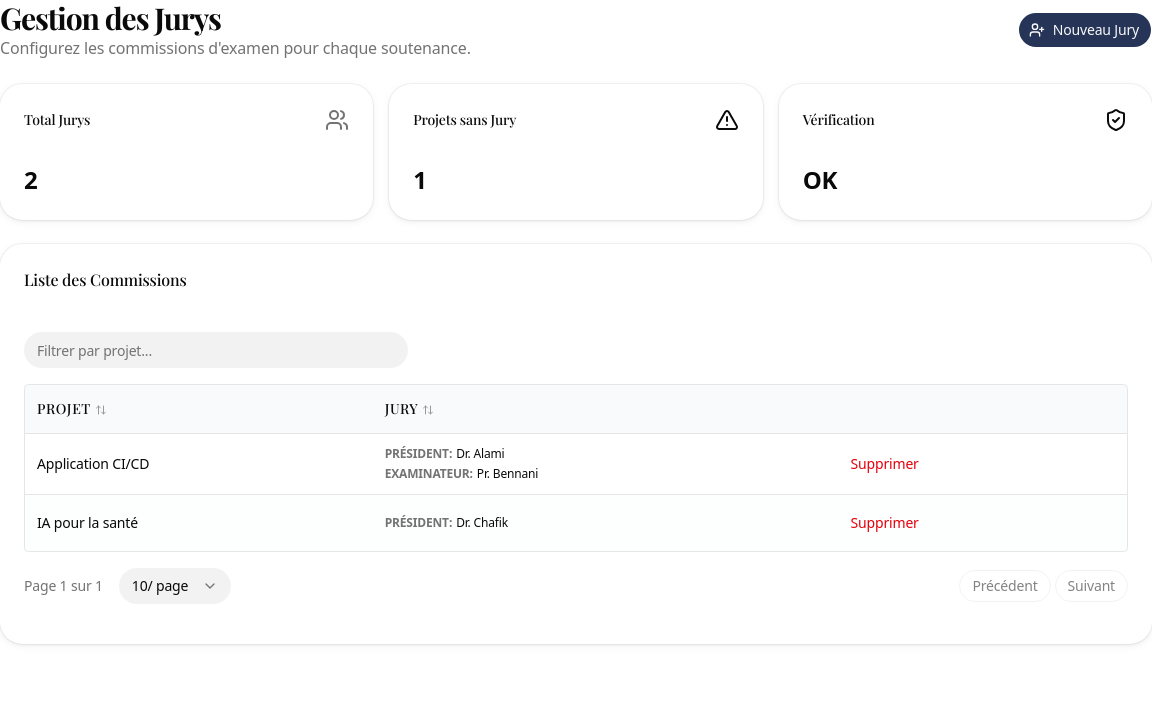
Test: Jurys (Coordinator) › shows delete confirmation when delete is clicked
Click the button "Supprimer" in the row of "Application CI/CD": (885,464) top-left (838, 448), bottom-right (932, 480)
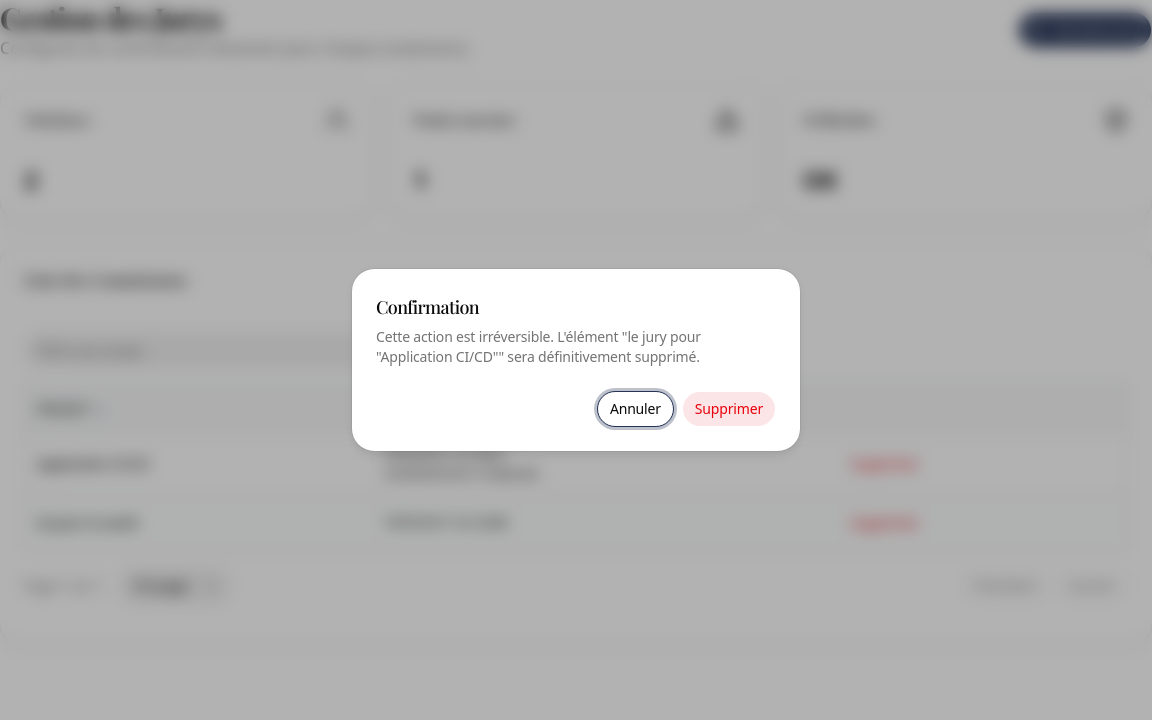
expect the dialog with test id "delete-alert" is shown: met, box top-left (352, 269), bottom-right (800, 451)
expect the heading "Confirmation" is shown: met, box top-left (376, 293), bottom-right (479, 321)
